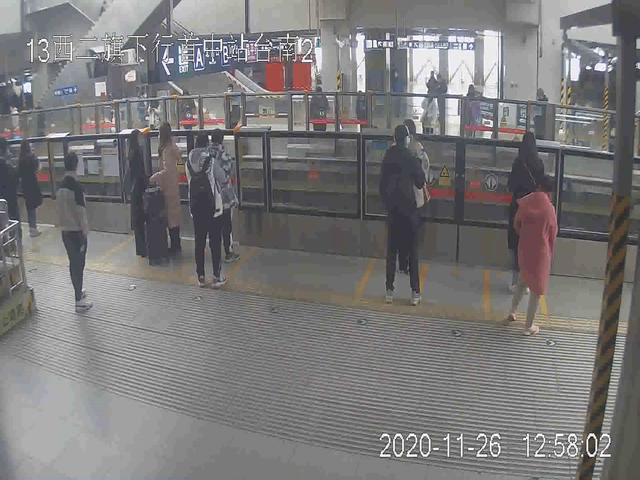person: (379, 125, 424, 309), (510, 176, 558, 334), (50, 151, 96, 310), (510, 131, 547, 289), (188, 133, 223, 289), (152, 121, 185, 254), (210, 128, 241, 257), (122, 130, 153, 255), (15, 140, 44, 233)
